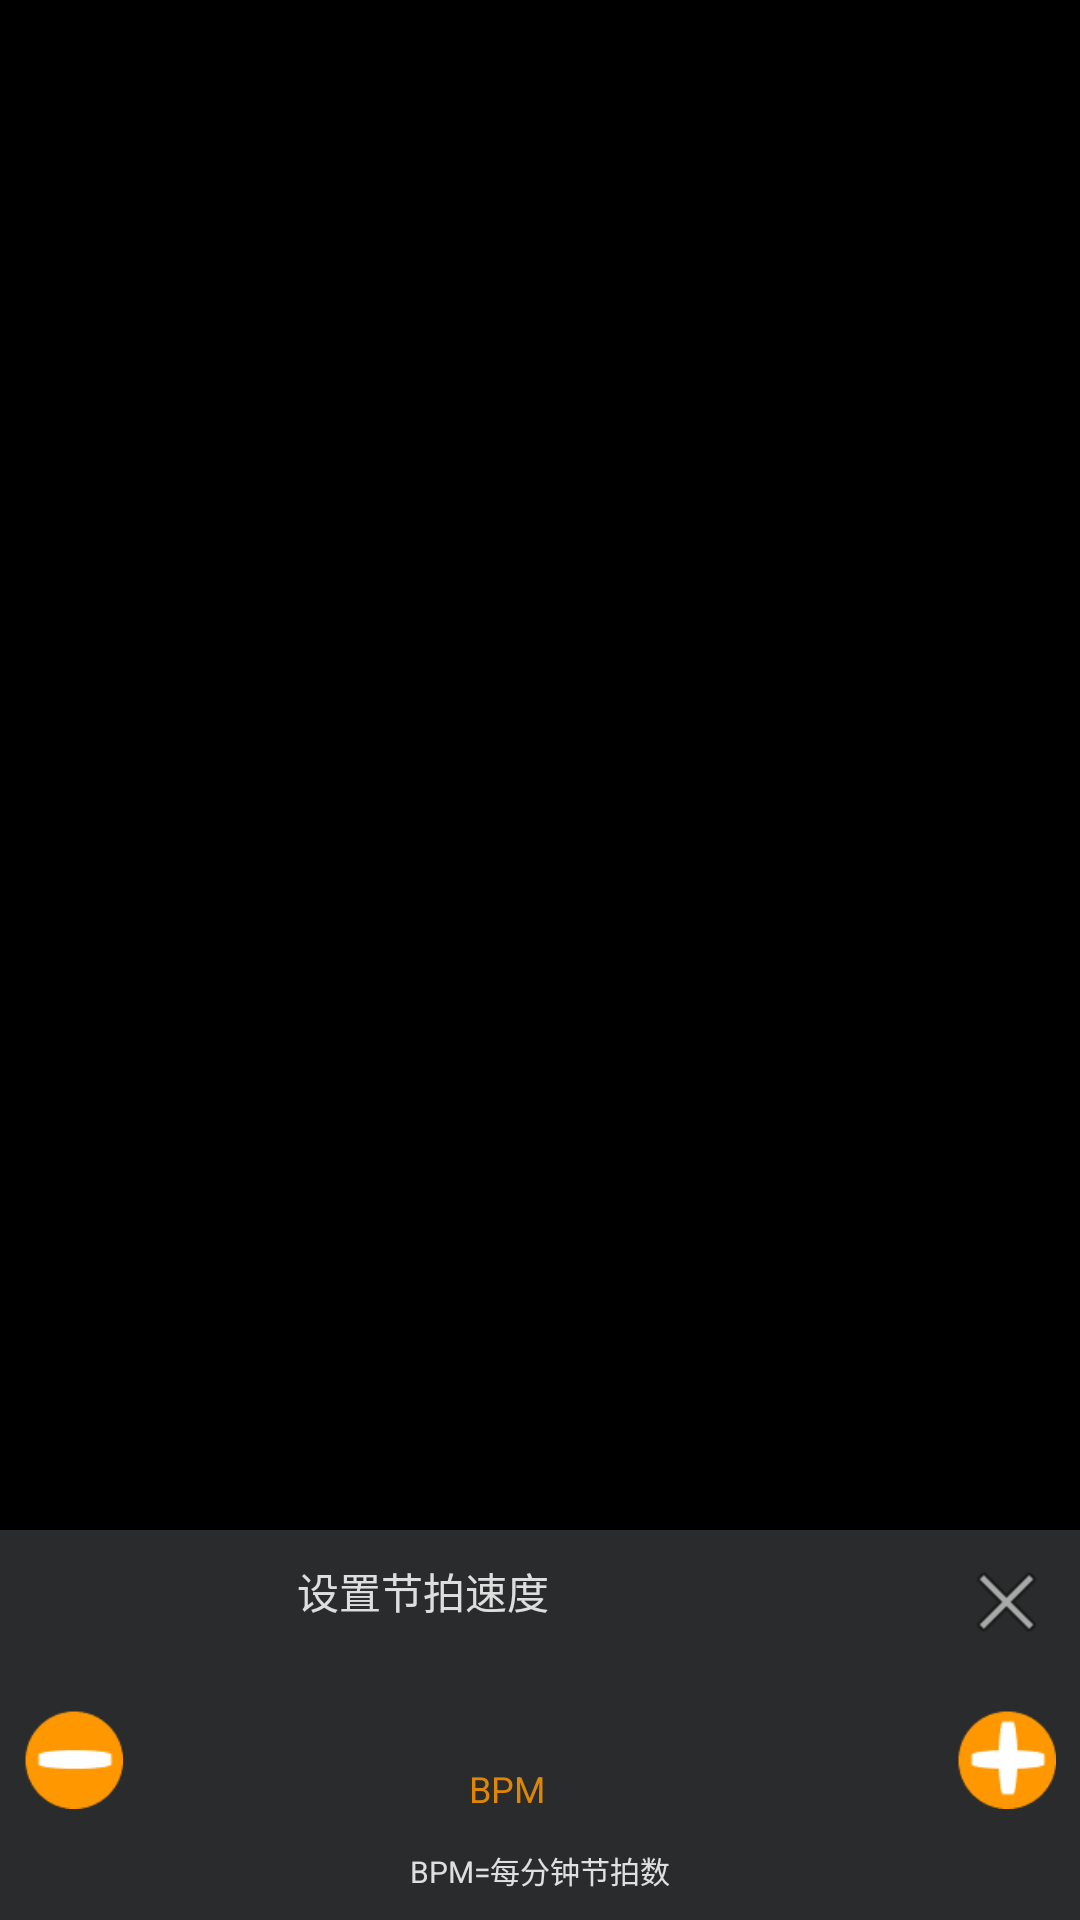

Icons on this 1080 × 1920 Android screen, each with its box as Rect(x1, y1, x2, y2):
add: Rect(958, 1711, 1056, 1809)
close clear cancel: Rect(980, 1575, 1033, 1629)
minus: Rect(25, 1711, 123, 1809)
